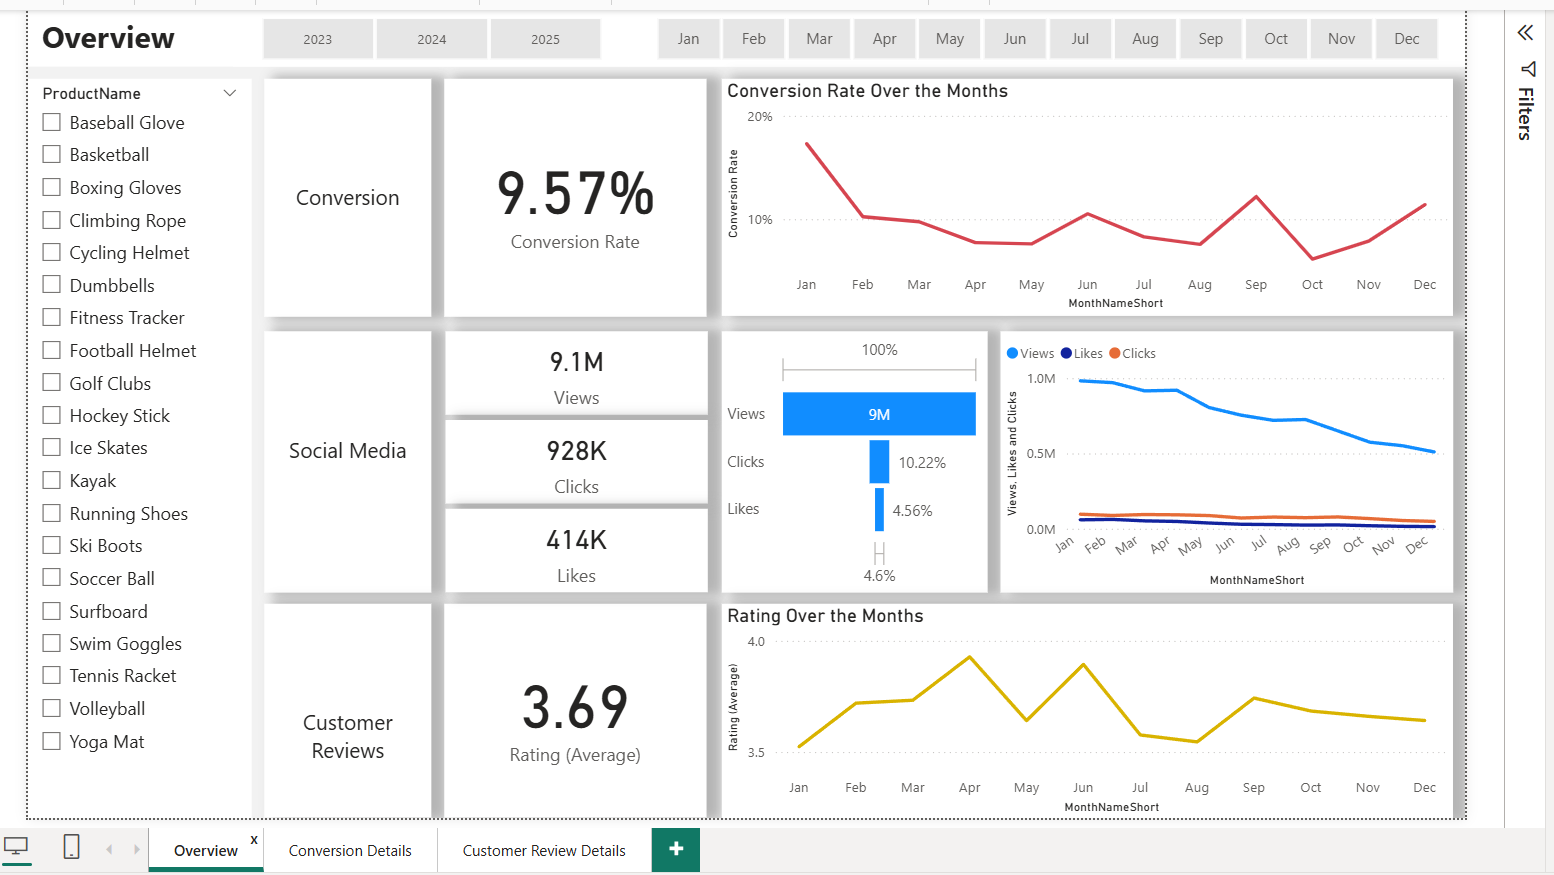

What the dashboard file says about the page in this screenshot:
{"tool":"powerbi","page":{"name":"Overview","canvas":[1280,720],"ordinal":0},"visuals":[{"type":"textbox","box":[0,0,1280.3,50.8],"z":0},{"type":"slicer","fields":{"Values":["dim_products.ProductName"]},"box":[0,61.6,198.8,659.3],"z":1000},{"type":"textbox","box":[210.5,61.6,148.8,211.6],"z":2000},{"type":"textbox","box":[210.5,286,148.8,232.6],"z":3000},{"type":"textbox","box":[210.5,529.1,148.8,190.7],"z":4000},{"type":"card","fields":{"Values":["_Calcultions.Conversion Rate"]},"box":[370.9,61.6,233.7,211.6],"z":5000},{"type":"card","fields":{"Values":["_Calcultions.Views"]},"box":[372.1,286,233.7,74.4],"z":6000},{"type":"card","fields":{"Values":["_Calcultions.Rating (Average)"]},"box":[370.9,529.1,233.7,190.7],"z":7000},{"type":"card","fields":{"Values":["_Calcultions.Clicks"]},"box":[372.1,365.1,233.7,74.4],"z":8000},{"type":"card","fields":{"Values":["_Calcultions.Likes"]},"box":[372.1,444.2,233.7,74.4],"z":9000},{"type":"slicer","fields":{"Values":["Calendar.Year"]},"box":[182.2,0,352.3,50.7],"z":10000},{"type":"slicer","fields":{"Values":["Calendar.MonthNameShort"]},"box":[534.5,0,745.6,50.7],"z":11000},{"type":"lineChart","title":"Conversion Rate Over the Months","fields":{"Category":["Calendar.MonthNameShort"],"Y":["_Calcultions.Conversion Rate"]},"box":[617.7,61.5,651.5,211.1],"z":12000},{"type":"funnel","fields":{"Y":["_Calcultions.Views","_Calcultions.Clicks","_Calcultions.Likes"]},"box":[617.7,285.9,236.5,232.8],"z":13000},{"type":"lineChart","fields":{"Category":["Calendar.MonthNameShort"],"Y":["_Calcultions.Views","_Calcultions.Likes","_Calcultions.Clicks"]},"box":[866.2,285.9,403,232.8],"z":14000},{"type":"lineChart","title":"Rating Over the Months","fields":{"Category":["Calendar.MonthNameShort"],"Y":["_Calcultions.Rating (Average)"]},"box":[617.7,528.4,651.5,191.8],"z":15000}]}

Visuals, with their boxes on the page's 1280x720 design canvas (x1, y1, x2, y2). These are canvas units, not pixel positions in the 1554x875 screenshot, which may show the page scaled, cropped or inside an application window:
textbox: <region>0, 0, 1280, 51</region>
slicer - dim_products.ProductName: <region>0, 62, 199, 721</region>
textbox: <region>210, 62, 359, 273</region>
textbox: <region>210, 286, 359, 519</region>
textbox: <region>210, 529, 359, 720</region>
card - _Calcultions.Conversion Rate: <region>371, 62, 605, 273</region>
card - _Calcultions.Views: <region>372, 286, 606, 360</region>
card - _Calcultions.Rating (Average): <region>371, 529, 605, 720</region>
card - _Calcultions.Clicks: <region>372, 365, 606, 440</region>
card - _Calcultions.Likes: <region>372, 444, 606, 519</region>
slicer - Calendar.Year: <region>182, 0, 534, 51</region>
slicer - Calendar.MonthNameShort: <region>534, 0, 1280, 51</region>
"Conversion Rate Over the Months" lineChart: <region>618, 62, 1269, 273</region>
funnel - _Calcultions.Views x _Calcultions.Clicks: <region>618, 286, 854, 519</region>
lineChart - Calendar.MonthNameShort x _Calcultions.Views: <region>866, 286, 1269, 519</region>
"Rating Over the Months" lineChart: <region>618, 528, 1269, 720</region>
